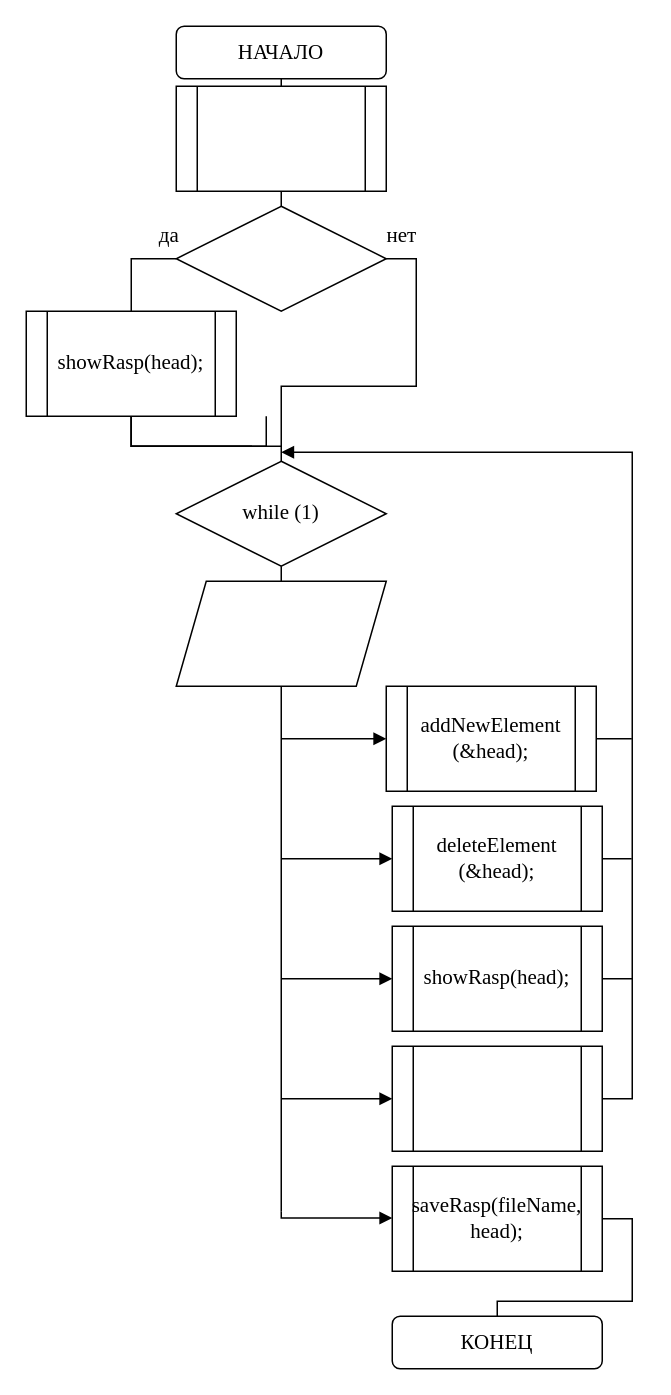
Some shapes in this 671 by 1395 pixel diagram are drawn without their labels. Here are the shapes that lost their labels. From the top down, the centre of each, then its label:
point (280, 138): downloadRasp (fileName, &head);
point (280, 258): if (head)
point (280, 633): Пункты меню; choice
point (496, 1098): deleteFirstElement (&head);
